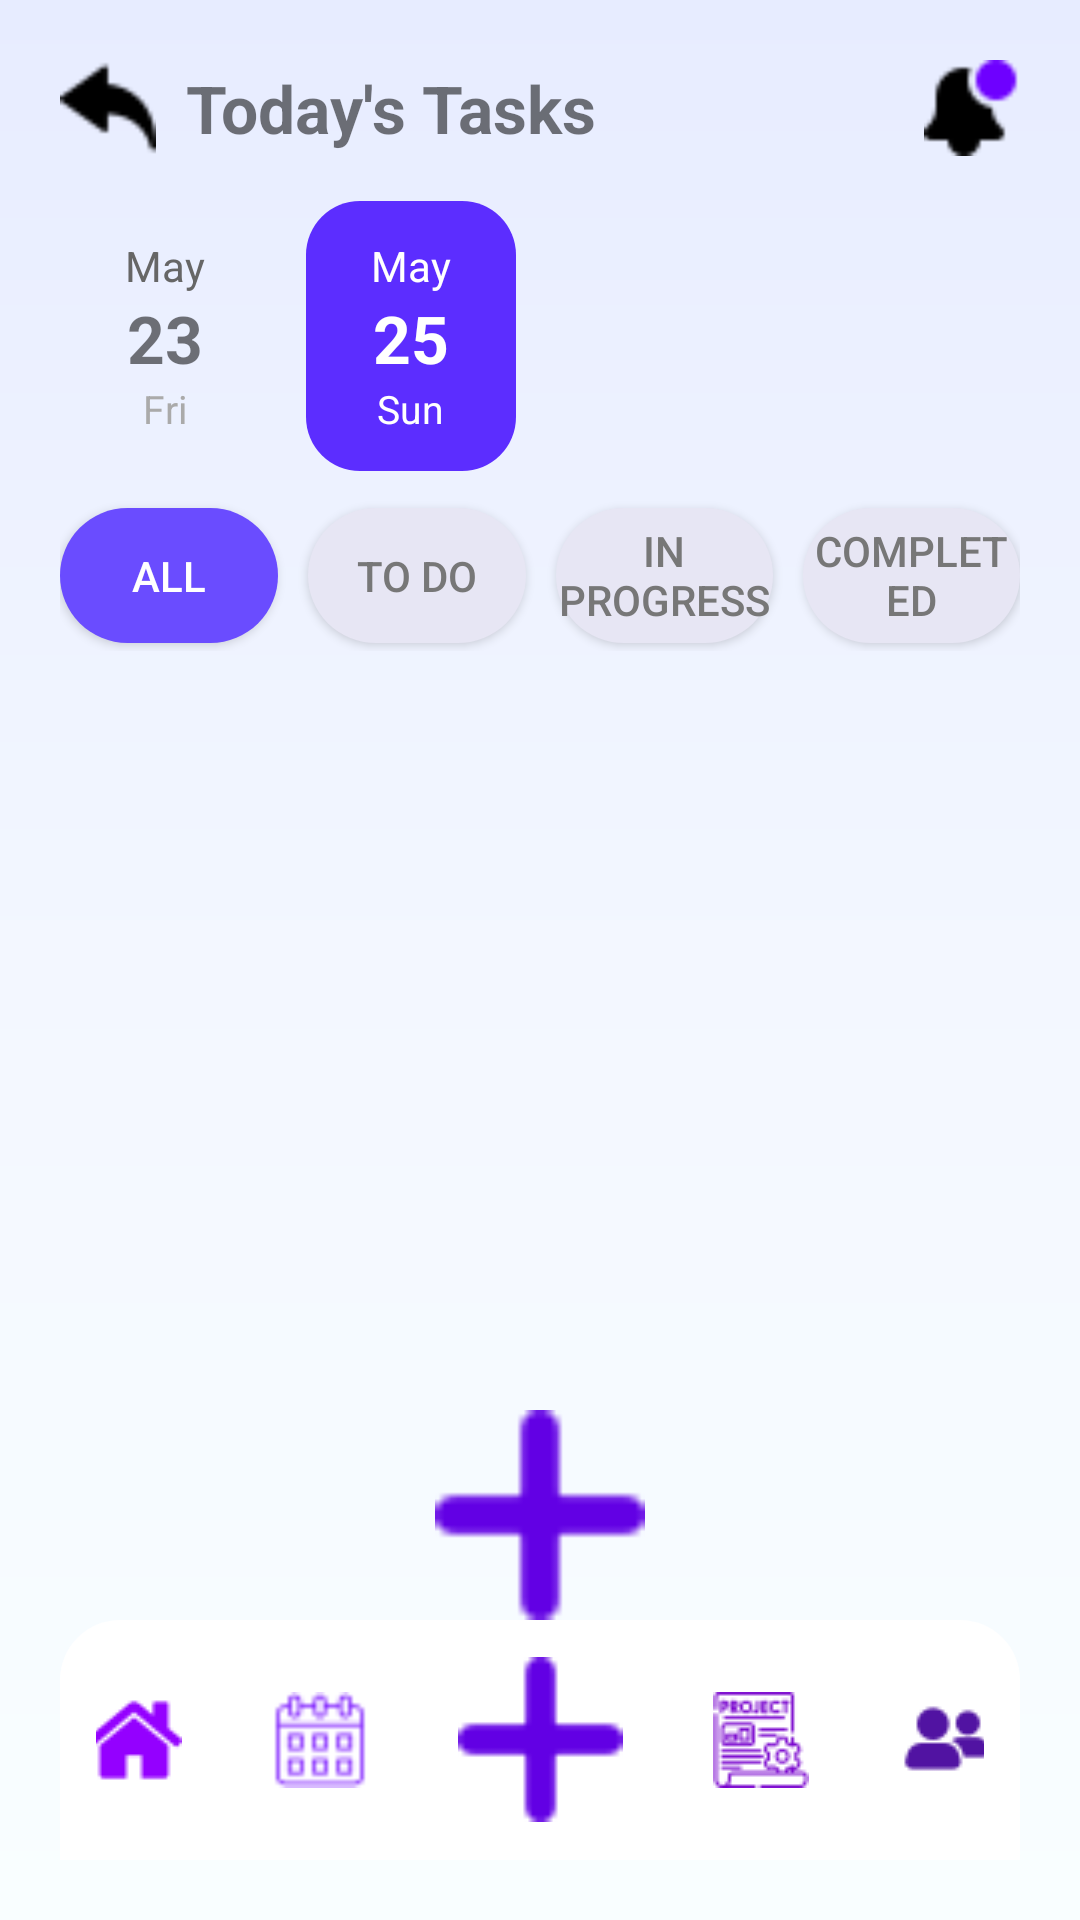

Named icons in this screenshot (1080x1920) and their centers, (x=x, y=y):
add: (x=540, y=1739)
Add Task: (x=540, y=1515)
Back: (x=108, y=108)
calendar: (x=320, y=1740)
home: (x=139, y=1740)
user: (x=944, y=1738)
